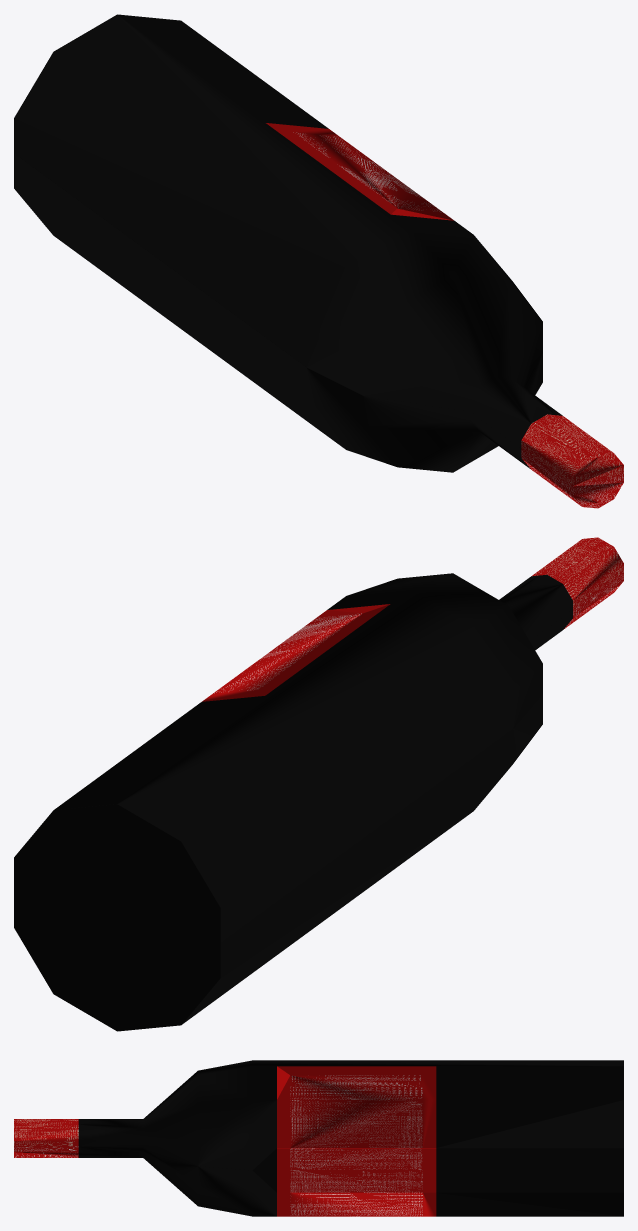
The model's file is model_align.obj.
3 renders of one model, top to bottom at view 1: azimuth 30°, elevation 25°; view 2: azimuth 150°, elevation 25°; view 3: azimuth 270°, elevation 25°, orthographic. The views are drawn at different scales.
Bounding box in the file's own units: 0.0615 × 0.0647 × 0.2479.
